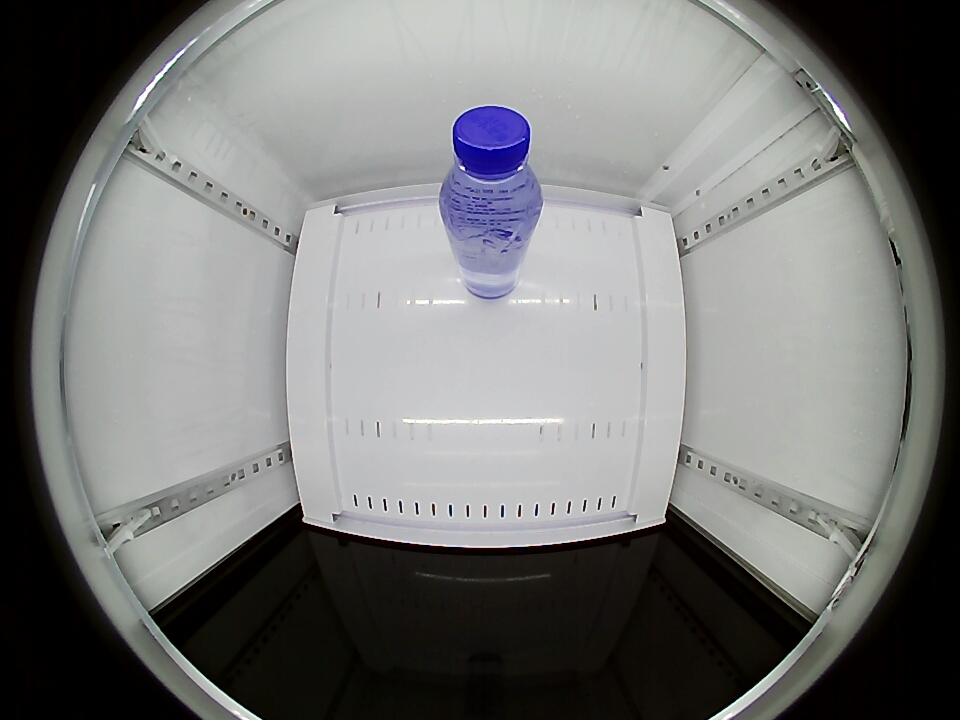aerbeisi: (441, 106, 544, 231)
